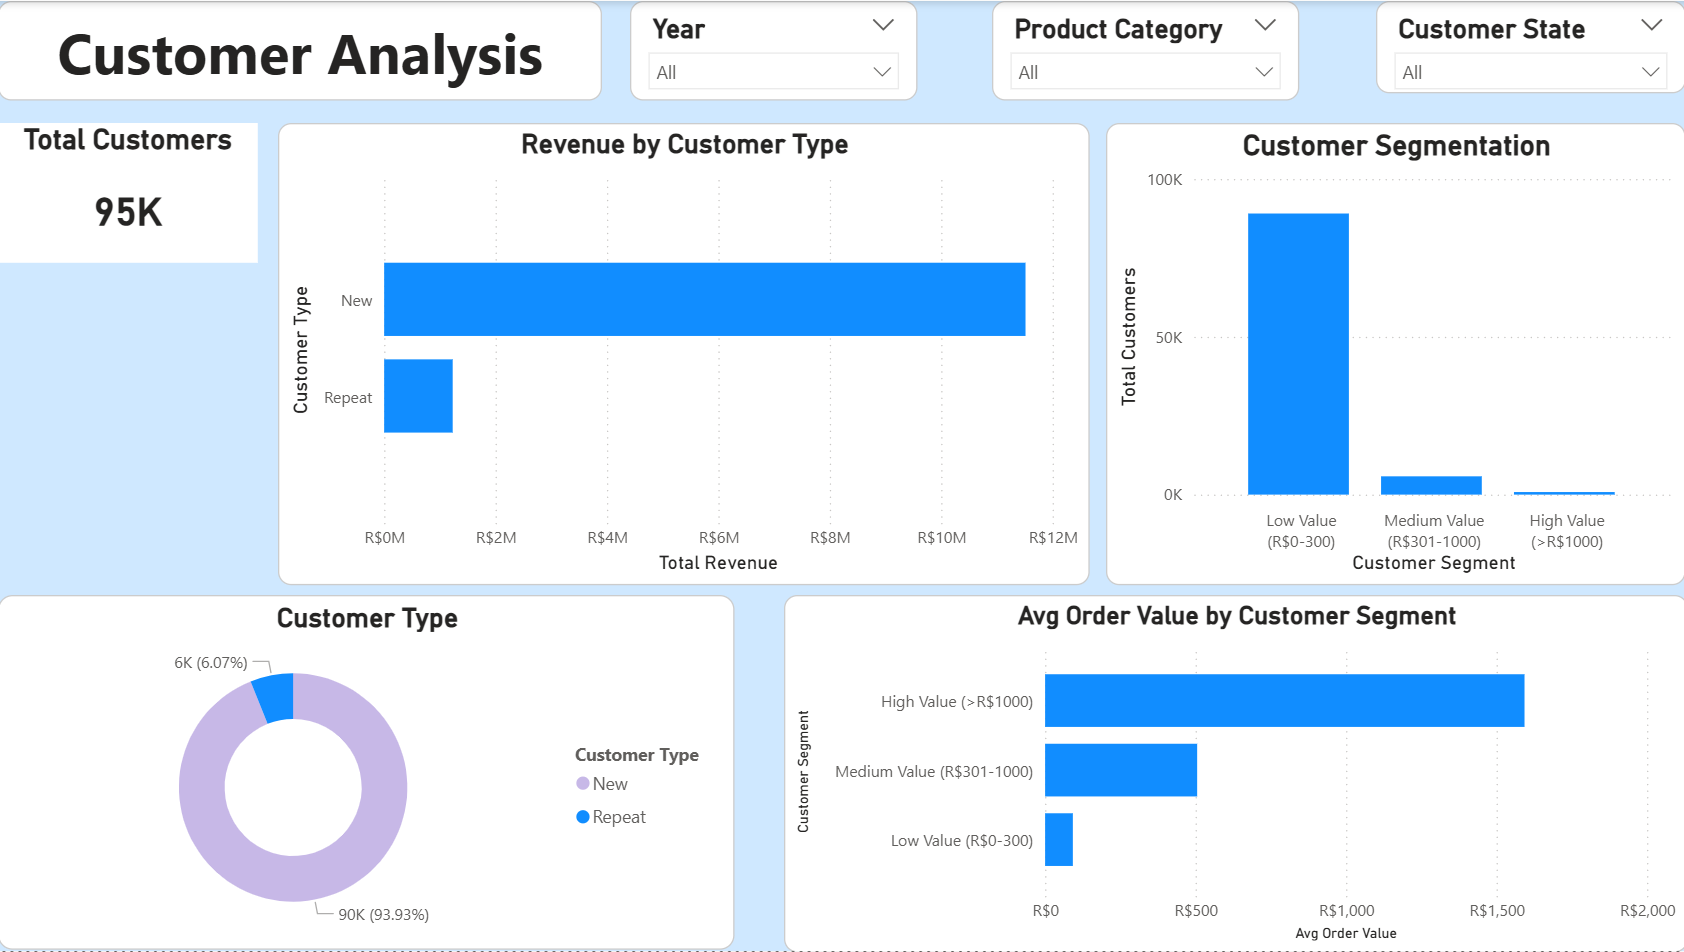

Layout of this report page (visuals, bound fields, positions):
{"tool":"powerbi","page":{"name":"Customer Analysis","canvas":[1280,720],"ordinal":2},"visuals":[{"type":"donutChart","title":"Customer Type","fields":{"Y":["Olist Orders.Total Customers"],"Category":["Olist Orders.Customer Type"]},"box":[0,450.7,558.6,268.9],"z":0},{"type":"clusteredColumnChart","title":"Customer Segmentation","fields":{"Category":["Olist Orders.Customer Segment Column"],"Y":["Olist Orders.Total Customers"]},"box":[840.7,92.8,439.3,350.3],"z":1000},{"type":"clusteredBarChart","title":"Revenue by Customer Type","fields":{"Y":["Olist Orders.Total Revenue"],"Category":["Olist Orders.Customer Type"]},"box":[212.1,92.8,615.4,350.3],"z":2000},{"type":"clusteredBarChart","fields":{"Y":["Olist Orders.Avg Order Value"],"Category":["Olist Orders.Customer Segment"]},"box":[596.4,450.7,685.4,270.8],"z":3000},{"type":"slicer","title":"Product Category","fields":{"Values":["Olist Orders.Product Category"]},"box":[753.6,0,232.9,75.7],"z":4000},{"type":"slicer","fields":{"Values":["Date Table.Year"]},"box":[479.1,0,217.8,75.7],"z":5000},{"type":"slicer","fields":{"Values":["Olist Orders.Customer State"]},"box":[1045.2,0,234.8,70.1],"z":6000},{"type":"textbox","box":[0,0,458.2,75.7],"z":7000},{"type":"card","title":"Total Customers","fields":{"Values":["Olist Orders.Total Customers"]},"box":[0,92.8,196.9,106],"z":8000}]}

Visuals, with their boxes in screenshot pixels (x1, y1, x2, y2), scaled from the page's 1280x720 canvas onto the 1684x952 screenshot:
"Customer Type" donutChart: 0/596/735/951
"Customer Segmentation" clusteredColumnChart: 1106/123/1683/586
"Revenue by Customer Type" clusteredBarChart: 279/123/1089/586
clusteredBarChart - Olist Orders.Avg Order Value x Olist Orders.Customer Segment: 785/596/1683/951
"Product Category" slicer: 991/0/1298/100
slicer - Date Table.Year: 630/0/917/100
slicer - Olist Orders.Customer State: 1375/0/1683/93
textbox: 0/0/603/100
"Total Customers" card: 0/123/259/263
